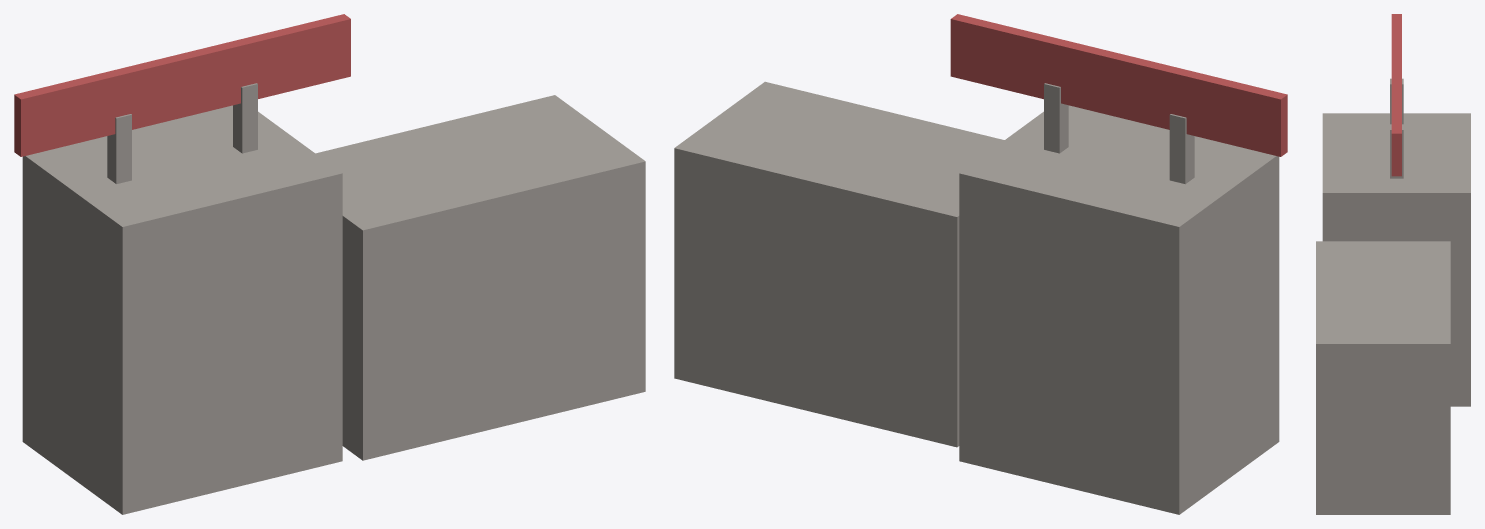
Rendered from five_roses.glb.
The picture shows the model from 3 angles, left to right: view 1: azimuth 30°, elevation 25°; view 2: azimuth 150°, elevation 25°; view 3: azimuth 270°, elevation 25°; orthographic projection. The views are drawn at different scales.
Parts seen in each view (by area): view 1: five_roses; view 2: five_roses; view 3: five_roses.
Boxes of the visible parts, bbox=[...] form: five_roses: bbox=[14, 14, 645, 514]; five_roses: bbox=[674, 14, 1287, 514]; five_roses: bbox=[1316, 14, 1470, 514].
Bounding box in the file's own units: 73 × 48 × 23.
